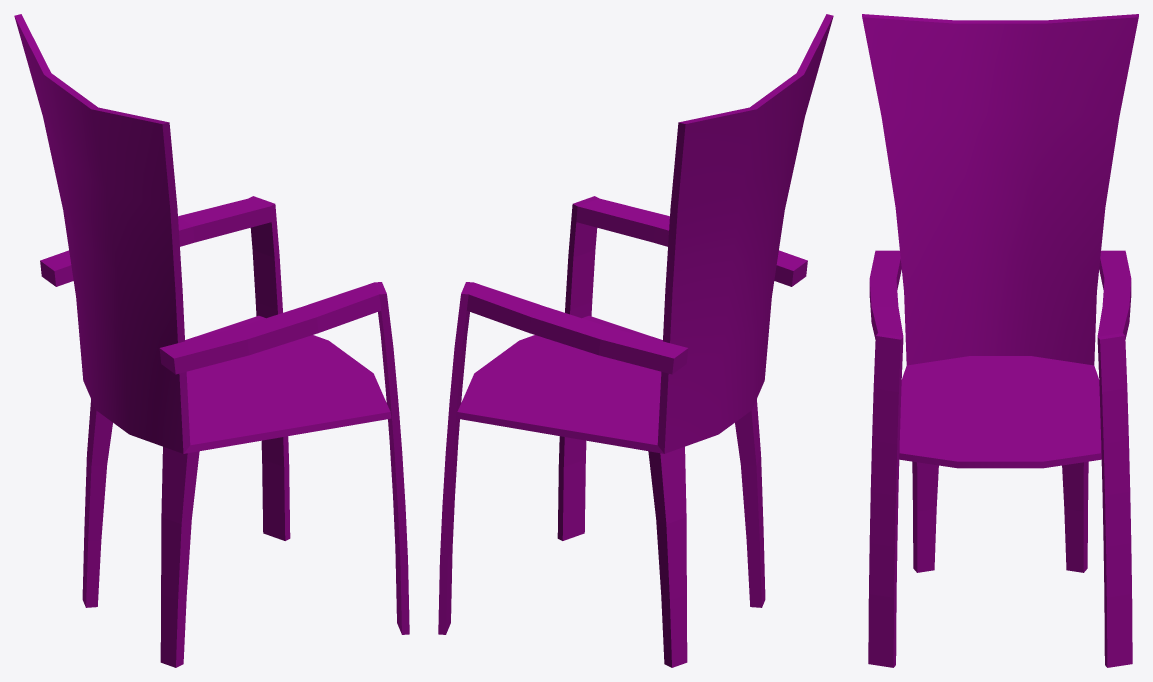
The model's file is PChair.FBX.
3 views of the same model, side by side, from view 1: azimuth 30°, elevation 25°; view 2: azimuth 150°, elevation 25°; view 3: azimuth 270°, elevation 25° (orthographic). The views are drawn at different scales.
Parts seen in each view (by area): view 1: PRP_PChair_1; view 2: PRP_PChair_1; view 3: PRP_PChair_1.
Boxes of the visible parts, x1,y1,x2,y2 form: PRP_PChair_1: (14, 14, 409, 667); PRP_PChair_1: (438, 14, 833, 667); PRP_PChair_1: (862, 14, 1138, 667).
Bounding box in the file's own units: 56.84 × 110 × 51.42.
